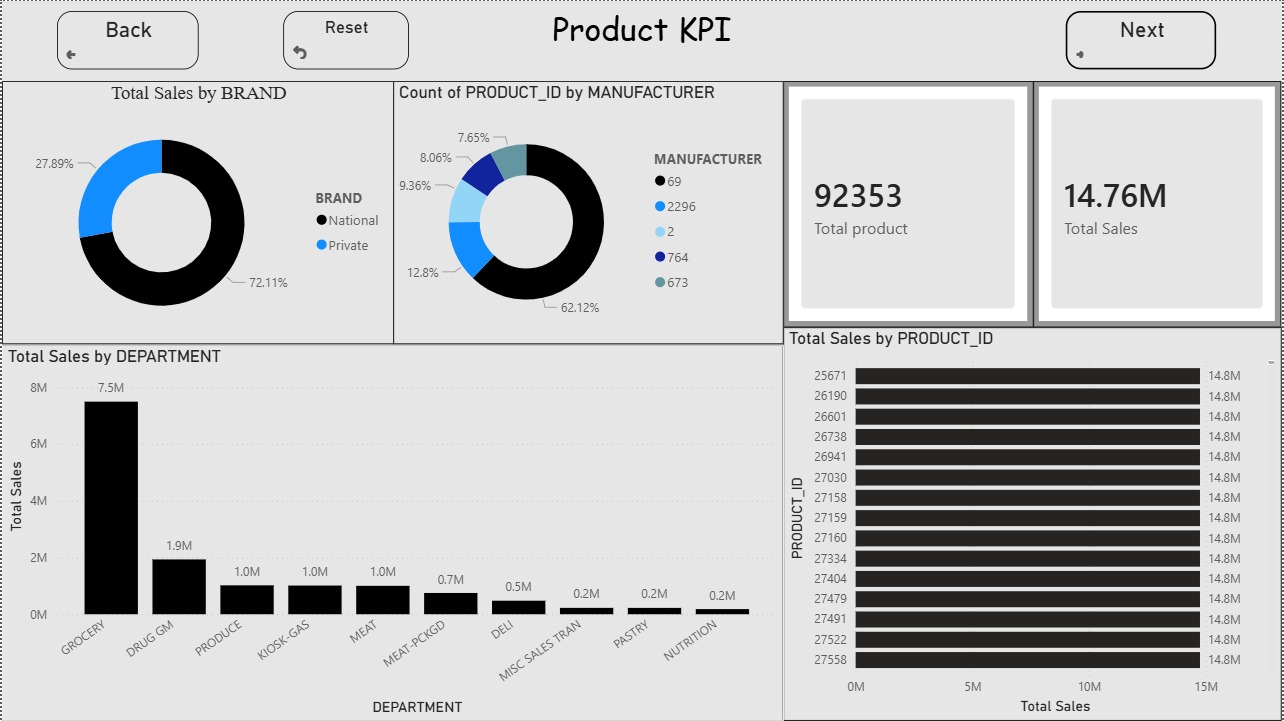

This screenshot's page, from the dashboard's own definition file:
{"tool":"powerbi","page":{"name":"Product KPI","canvas":[1280,720],"ordinal":3},"visuals":[{"type":"cardVisual","fields":{"Data":["KPI.Total product"]},"box":[781.7,80,250,246.7],"z":0},{"type":"cardVisual","fields":{"Data":["KPI.Total Sales"]},"box":[1031.7,80,248.3,246.7],"z":1000},{"type":"donutChart","fields":{"Y":["KPI.Total Sales"],"Category":["product.BRAND"]},"box":[0,80,391.7,263.3],"z":2000},{"type":"clusteredBarChart","fields":{"Category":["coupon.PRODUCT_ID"],"Y":["KPI.Total Sales"]},"box":[781.7,326.7,498.3,393.3],"z":3000},{"type":"clusteredColumnChart","fields":{"Y":["KPI.Total Sales"],"Category":["product.DEPARTMENT"]},"box":[0,343.3,781.7,376.7],"z":4000},{"type":"donutChart","fields":{"Category":["product.MANUFACTURER"],"Y":["CountNonNull(coupon.PRODUCT_ID)"]},"box":[391.7,80,390,263.3],"z":5000},{"type":"textbox","box":[0,0,1280,80],"z":6000},{"type":"actionButton","title":"Next","box":[1063.3,10,150,58.3],"z":7000},{"type":"actionButton","title":"Back","box":[55,10,141.7,58.3],"z":8000},{"type":"actionButton","title":"Reset","box":[281,9.7,125.2,58.4],"z":8001}]}

Visuals, with their boxes in screenshot pixels (x1, y1, x2, y2), scaled from the page's 1280x720 canvas onto the 1284x721 screenshot:
cardVisual - KPI.Total product: 784:80:1035:327
cardVisual - KPI.Total Sales: 1035:80:1283:327
donutChart - KPI.Total Sales x product.BRAND: 0:80:393:344
clusteredBarChart - coupon.PRODUCT_ID x KPI.Total Sales: 784:327:1283:720
clusteredColumnChart - KPI.Total Sales x product.DEPARTMENT: 0:344:784:720
donutChart - product.MANUFACTURER x CountNonNull(coupon.PRODUCT_ID): 393:80:784:344
textbox: 0:0:1283:80
"Next" actionButton: 1067:10:1217:68
"Back" actionButton: 55:10:197:68
"Reset" actionButton: 282:10:407:68
